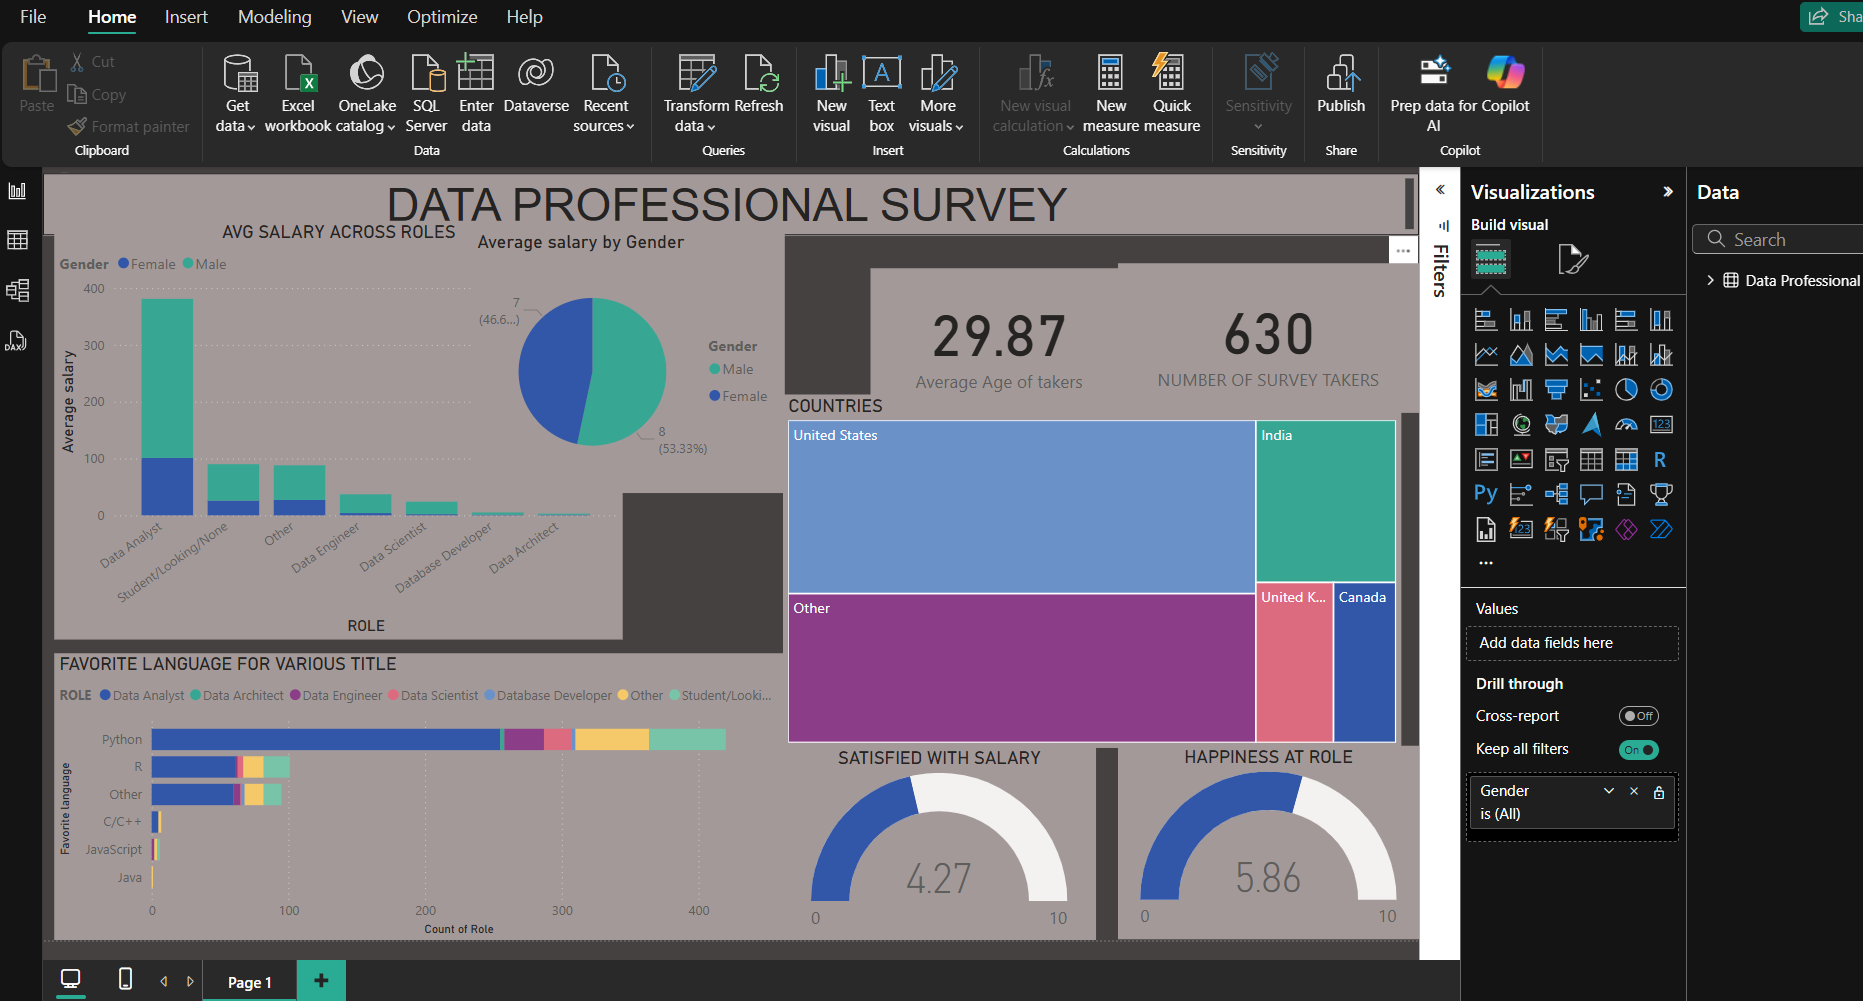

Layout of this report page (visuals, bound fields, positions):
{"tool":"powerbi","page":{"name":"Page 1","canvas":[1280,720],"ordinal":0},"visuals":[{"type":"actionButton","box":[0,0,100,40],"z":0},{"type":"textbox","box":[0,5.4,1280.3,58.2],"z":1000},{"type":"card","title":"NUMBER OF SURVEY TAKERS","fields":{"Values":["CountNonNull(Data Professional Survey.ID)"]},"box":[1000.1,89.3,280.1,139.4],"z":2000},{"type":"card","fields":{"Values":["Avg(Data Professional Survey.Age)"]},"box":[770.1,94.7,239.5,134],"z":3000},{"type":"gauge","title":"HAPPINESS AT ROLE","fields":{"Y":["Avg(Data Professional Survey.Q6 - How Happy are you in your Current Position with the following? (Coworkers))"],"MinValue":["Min(Data Professional Survey.Q6 - How Happy are you in your Current Position with the following? (Coworkers))"],"MaxValue":["Max(Data Professional Survey.Q6 - How Happy are you in your Current Position with the following? (Learning New Things))"]},"box":[1000.1,538.6,280.1,180],"z":4000},{"type":"gauge","title":"SATISFIED WITH SALARY","fields":{"Y":["Avg(Data Professional Survey.Q6 - How Happy are you in your Current Position with the following? (Salary))"],"MinValue":["Min(Data Professional Survey.Q6 - How Happy are you in your Current Position with the following? (Salary))"],"MaxValue":["Max(Data Professional Survey.Q6 - How Happy are you in your Current Position with the following? (Salary))"]},"box":[688.9,540,291,180],"z":5000},{"type":"barChart","title":"FAVORITE LANGUAGE FOR VARIOUS TITLE","fields":{"Y":["CountNonNull(Data Professional Survey.Role)"],"Category":["Data Professional Survey.Favorite language.1"],"Series":["Data Professional Survey.Q1 - Which Title Best Fits your Current Role?.1"]},"box":[10.8,452,678,268],"z":6000},{"type":"columnChart","title":"AVG SALARY ACROSS ROLES","fields":{"Y":["CountNonNull(Data Professional Survey.Average salary)"],"Category":["Data Professional Survey.Q1 - Which Title Best Fits your Current Role?.1"],"Series":["Data Professional Survey.Gender"]},"box":[10.8,50.1,529.2,389.8],"z":7000},{"type":"treemap","title":"COUNTRIES","fields":{"Values":["CountNonNull(Data Professional Survey.Q11 - Which Country do you live in?.1)"],"Details":["Data Professional Survey.Q11 - Which Country do you live in?.1"]},"box":[688.9,211.1,575.2,328.9],"z":8000},{"type":"pieChart","fields":{"Y":["Count(Data Professional Survey.Average salary)"],"Category":["Data Professional Survey.Gender"]},"box":[399.2,59.5,291,243.6],"z":9000}]}

Visuals, with their boxes on the page's 1280x720 design canvas (x1, y1, x2, y2). These are canvas units, not pixel positions in the 1863x1001 screenshot, which may show the page scaled, cropped or inside an application window:
actionButton: [0,0,100,40]
textbox: [0,5,1280,64]
"NUMBER OF SURVEY TAKERS" card: [1000,89,1280,229]
card - Avg(Data Professional Survey.Age): [770,95,1010,229]
"HAPPINESS AT ROLE" gauge: [1000,539,1280,719]
"SATISFIED WITH SALARY" gauge: [689,540,980,720]
"FAVORITE LANGUAGE FOR VARIOUS TITLE" barChart: [11,452,689,720]
"AVG SALARY ACROSS ROLES" columnChart: [11,50,540,440]
"COUNTRIES" treemap: [689,211,1264,540]
pieChart - Count(Data Professional Survey.Average salary) x Data Professional Survey.Gender: [399,60,690,303]
